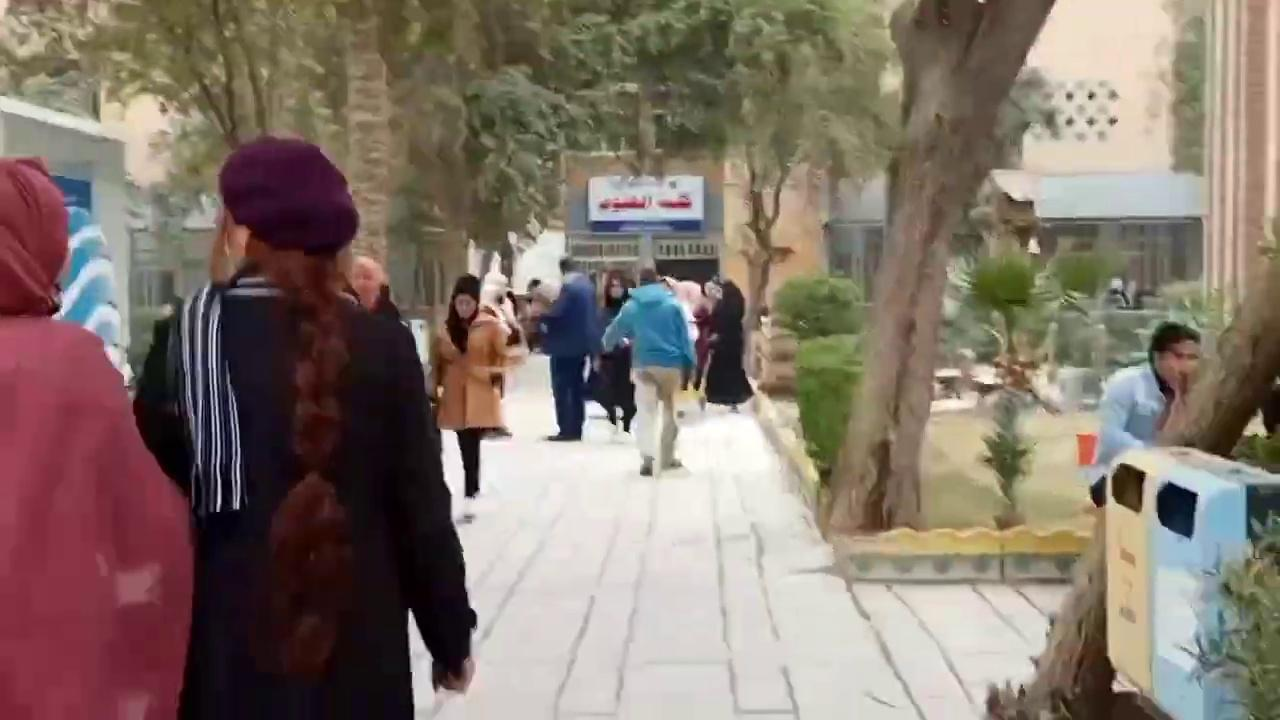person: (132, 134, 477, 719), (0, 154, 196, 719), (1087, 320, 1202, 508), (430, 273, 512, 520)
tree: (547, 0, 898, 383), (821, 0, 1060, 532), (379, 0, 567, 297), (2, 0, 341, 152), (943, 235, 1108, 527), (768, 270, 872, 530), (1181, 212, 1278, 458), (1179, 509, 1278, 718)
